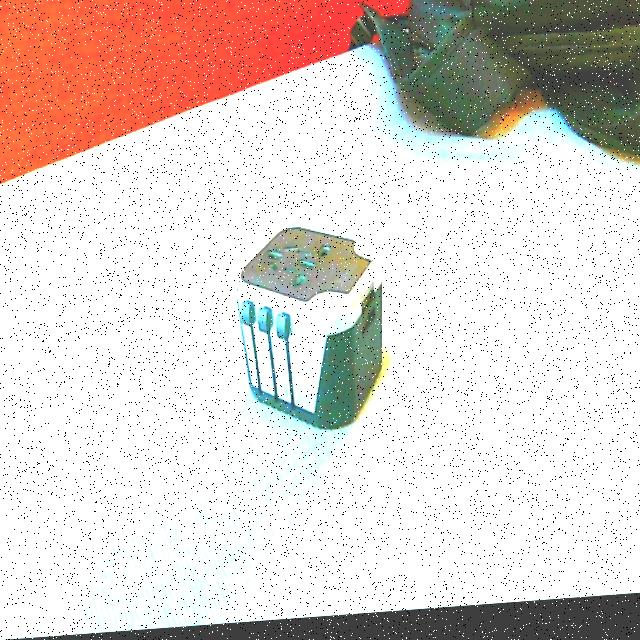adapter: (234, 223, 383, 440)
